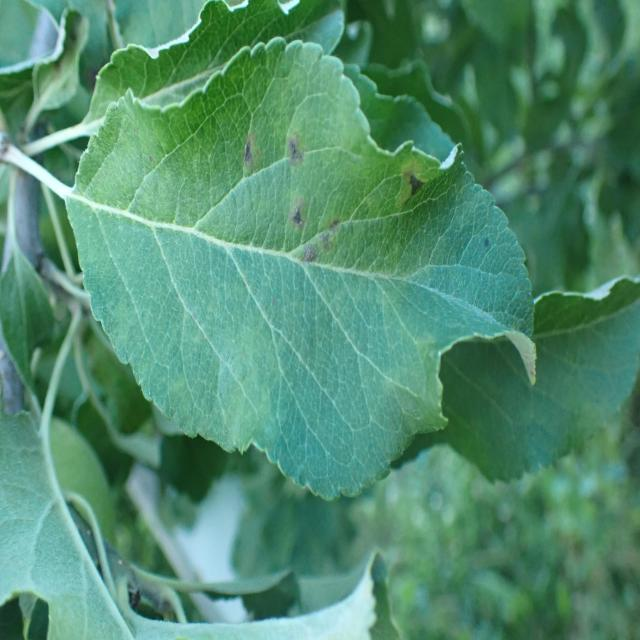scab: (302, 211, 348, 283), (219, 114, 266, 183), (282, 118, 318, 182), (277, 191, 308, 235)
